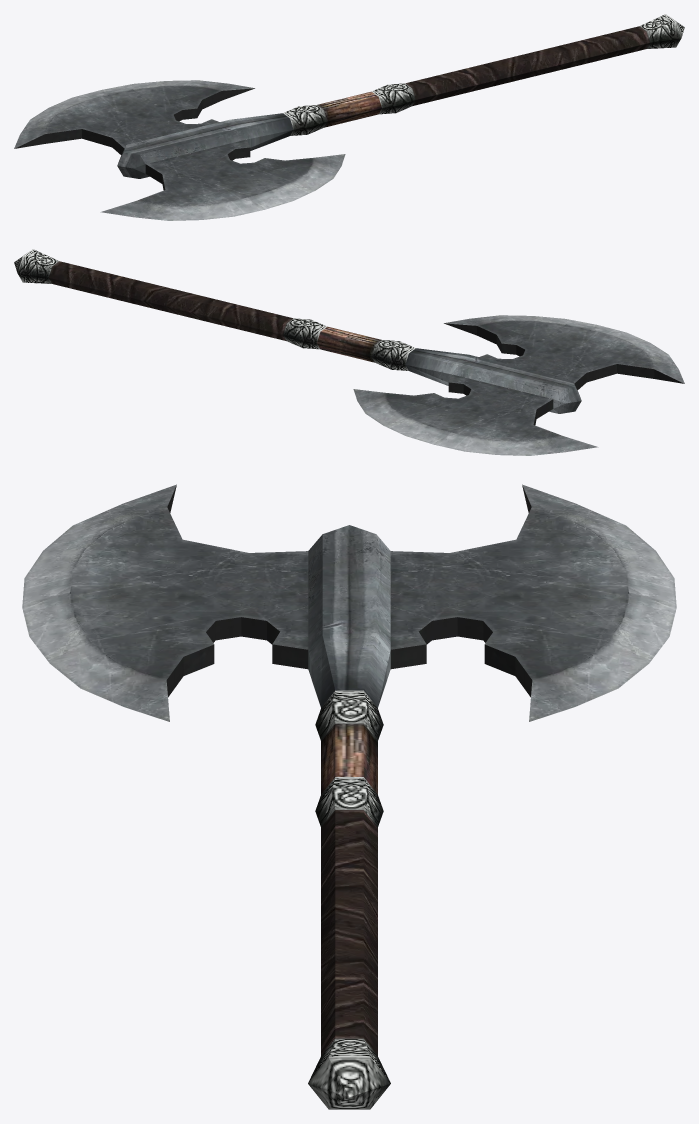
The model's file is KM_OLD_AX_01.glb.
The picture shows the model from 3 angles, top to bottom: view 1: azimuth 30°, elevation 25°; view 2: azimuth 150°, elevation 25°; view 3: azimuth 270°, elevation 25°; orthographic projection. The views are drawn at different scales.
Parts seen in each view (by area): view 1: KM_OLD_AX_01; view 2: KM_OLD_AX_01; view 3: KM_OLD_AX_01.
Boxes of the visible parts, x1=… form: KM_OLD_AX_01: x1=14, y1=14, x2=684, y2=220; KM_OLD_AX_01: x1=14, y1=249, x2=684, y2=455; KM_OLD_AX_01: x1=22, y1=484, x2=676, y2=1109.
Bounding box in the file's own units: 1.26 × 0.0496 × 0.5677.
4 materials, 4 textured.
